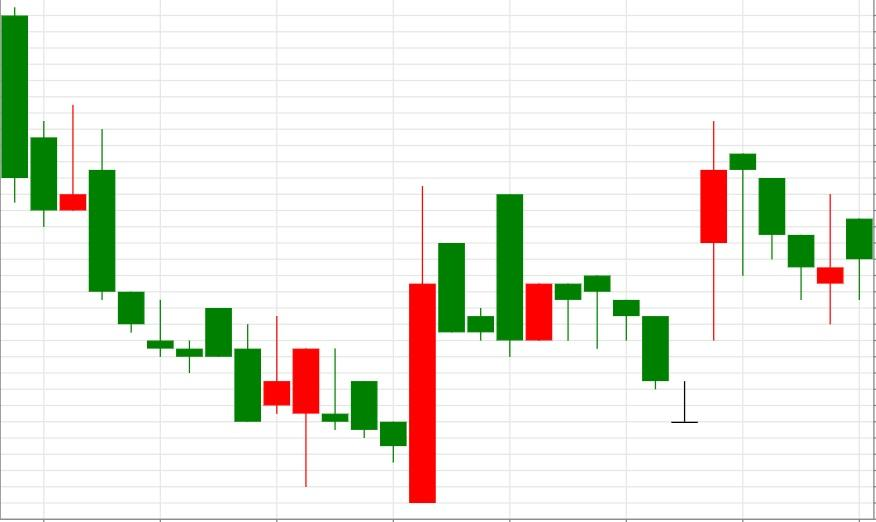bullish_engulfing_rise: (0, 7, 437, 503)
hanging_man_fall: (672, 121, 757, 424)
three_black_crows_fall: (672, 120, 815, 424), (496, 193, 670, 390)
